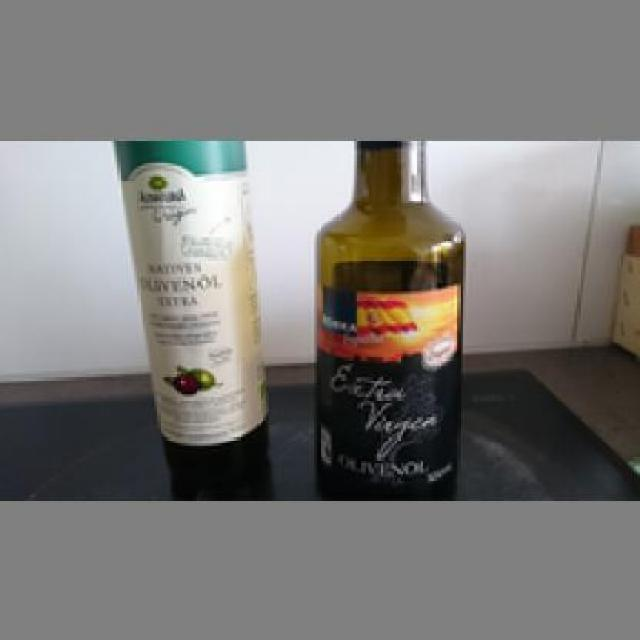Oil: (108, 137, 274, 494), (310, 137, 466, 497)
